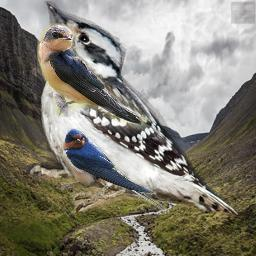Swallow: (37, 19, 153, 130), (61, 128, 170, 214)
Woodpecker: (23, 1, 238, 215)
